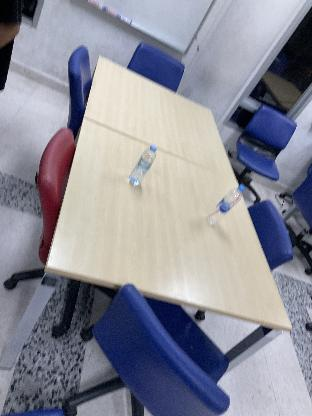Plastic Bottle: (206, 183, 246, 231), (128, 144, 158, 188)
